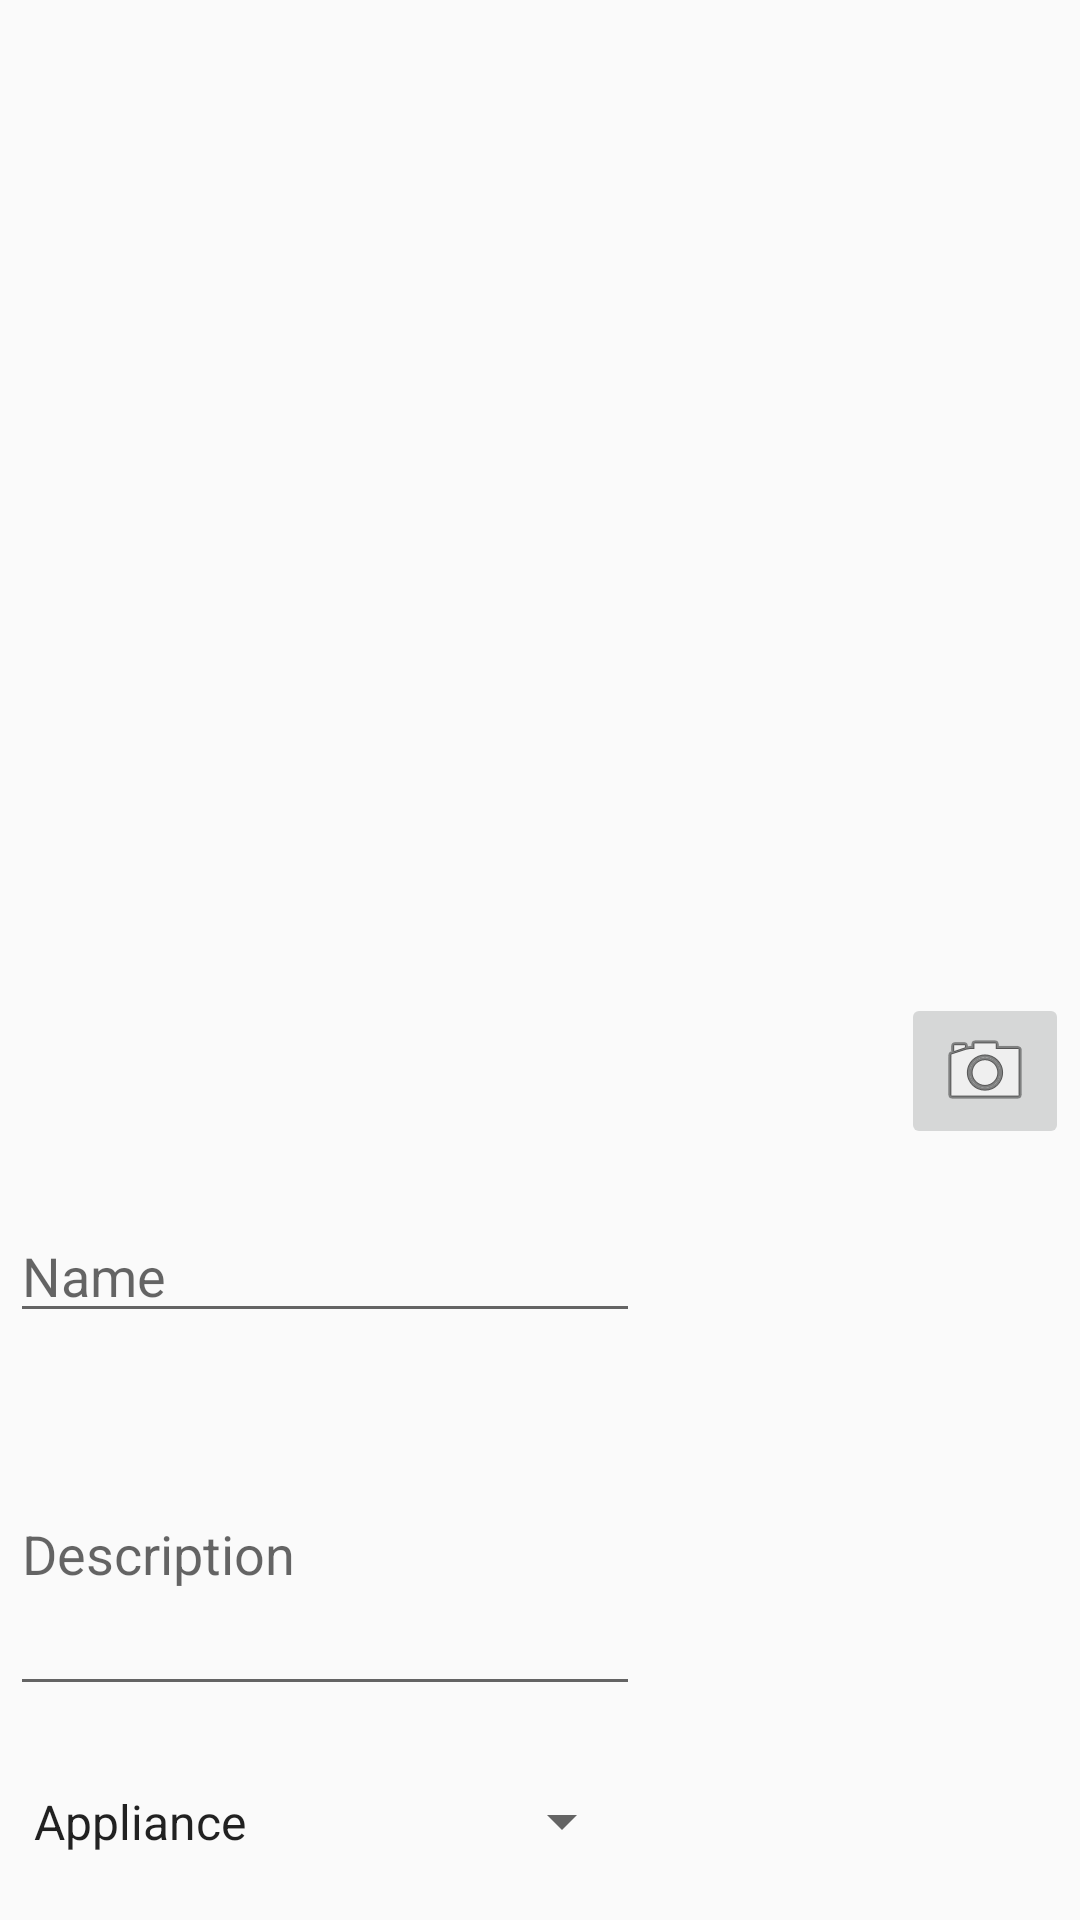

Where to tap for icons on this 1080w x 1920h app screen, as (x,y):
camera: (985,1071)
